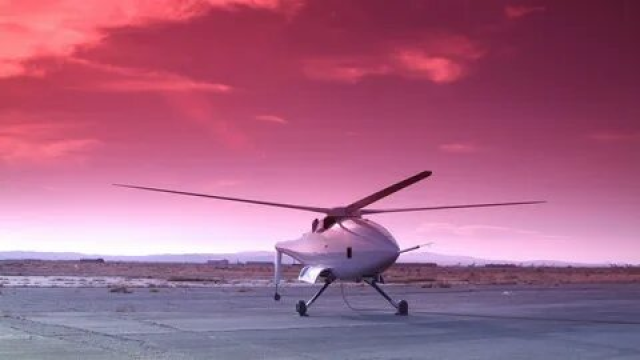military drone: (111, 169, 547, 316)
